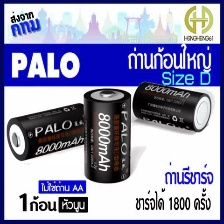battery: (5, 100, 94, 161), (80, 87, 131, 184), (131, 79, 214, 137)
